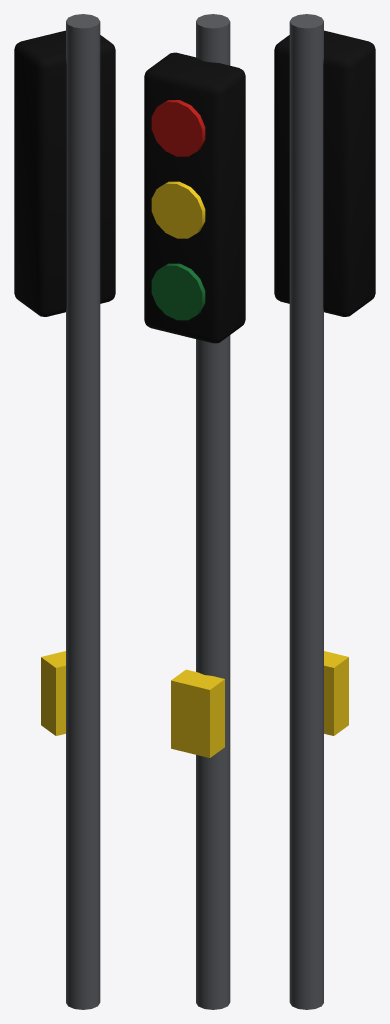
Rendered from street.traffic.signal.glb.
The picture shows the model from 3 angles, left to right: view 1: azimuth 30°, elevation 25°; view 2: azimuth 150°, elevation 25°; view 3: azimuth 330°, elevation 25°; orthographic projection.
Visible parts, largest first — view 1: main__plastic_grey, main__plastic_black, main__plastic_yellow; view 2: main__plastic_grey, main__plastic_black, main__plastic_yellow, main__plastic_green, main__hazard_red; view 3: main__plastic_grey, main__plastic_black, main__plastic_yellow.
Boxes of the visible parts, bbox=[...] form: main__plastic_grey: bbox=[66, 14, 100, 1009]; main__plastic_black: bbox=[14, 30, 115, 316]; main__plastic_yellow: bbox=[41, 651, 65, 735]; main__plastic_grey: bbox=[196, 14, 230, 1009]; main__plastic_black: bbox=[144, 52, 245, 343]; main__plastic_yellow: bbox=[151, 181, 224, 757]; main__plastic_green: bbox=[151, 263, 205, 320]; main__hazard_red: bbox=[151, 100, 205, 156]; main__plastic_grey: bbox=[289, 14, 323, 1009]; main__plastic_black: bbox=[274, 30, 375, 316]; main__plastic_yellow: bbox=[324, 651, 348, 735].
Size of the model in its own units: 0.3 by 3.6 by 0.297.
